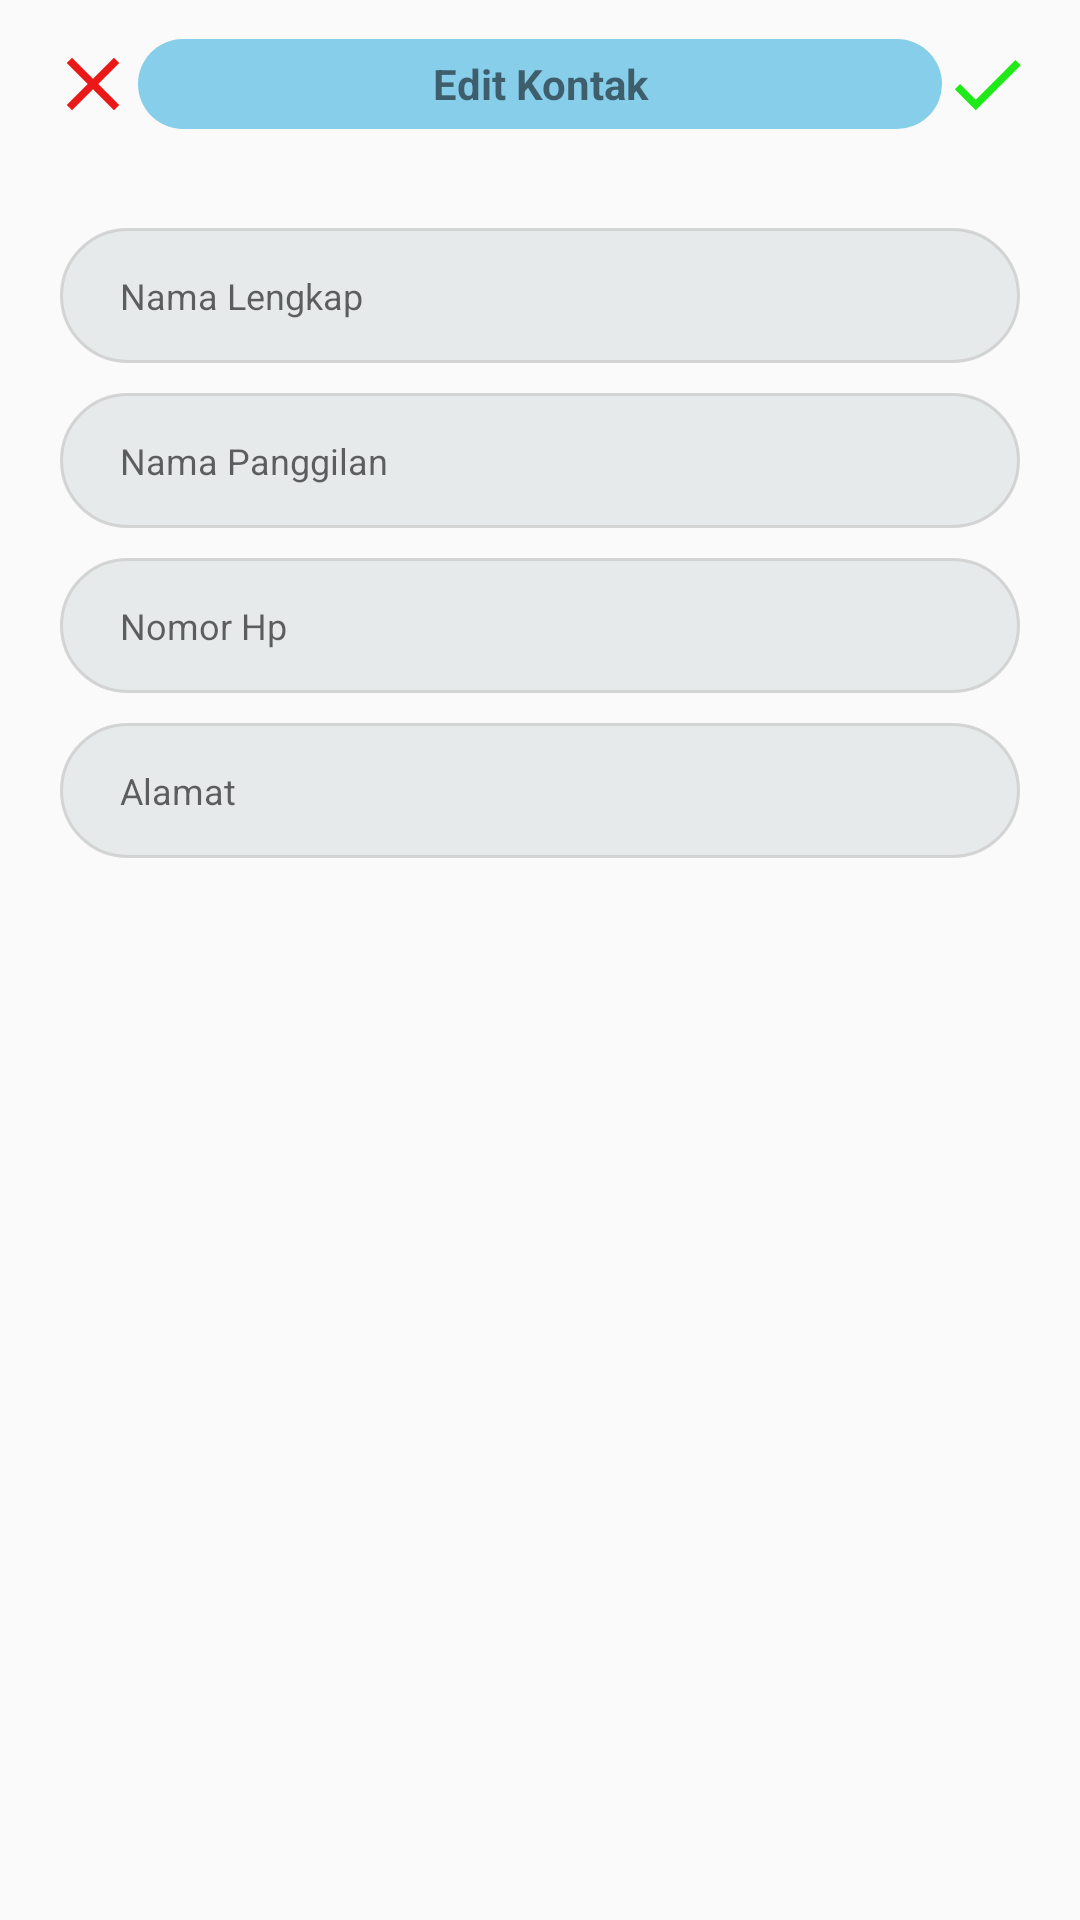

Icons on this 1080w x 1920h Android screen, each with the point to tap as (x,y):
check: (988,85)
close: (93,84)
